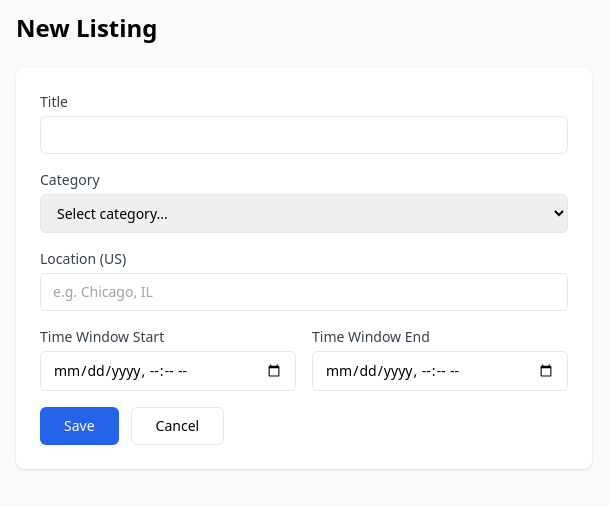
Scenario: ListingFormPage › time window end before start shows validation error
Type "Lost wallet" into the field with test id "title-input" at (304, 135), box [40,116,568,154]
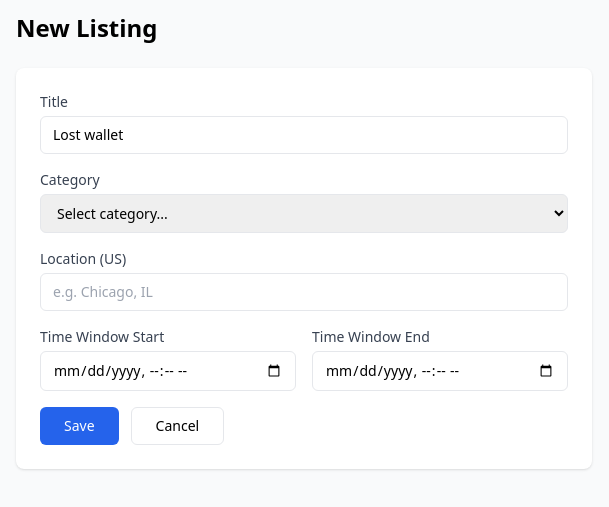
Select "Keys" in the dropdown with test id "category-select" at (304, 214), box [40,194,568,233]
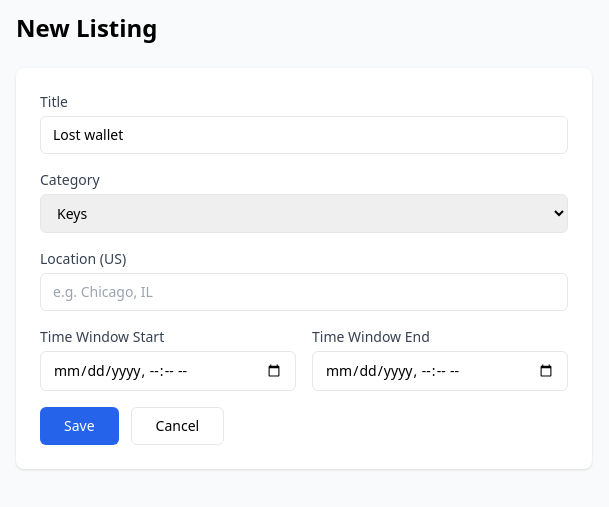
Type "Chicago, IL" into the field with test id "location-input" at (304, 292), box [40,273,568,311]
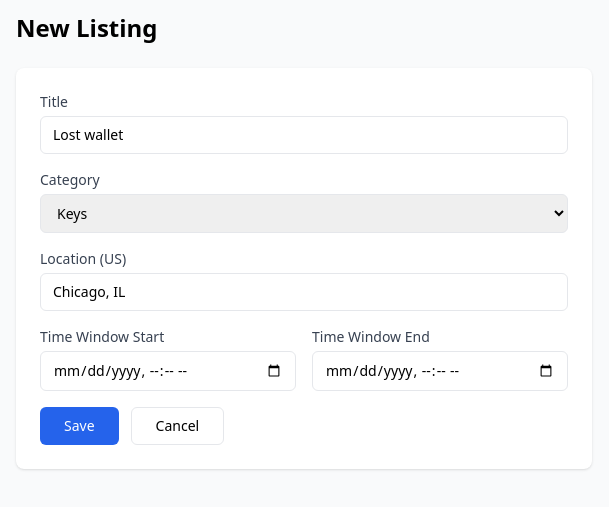
Type "2024-06-15T14:00" into the field with test id "start-time" at (168, 371), box [40,351,296,391]
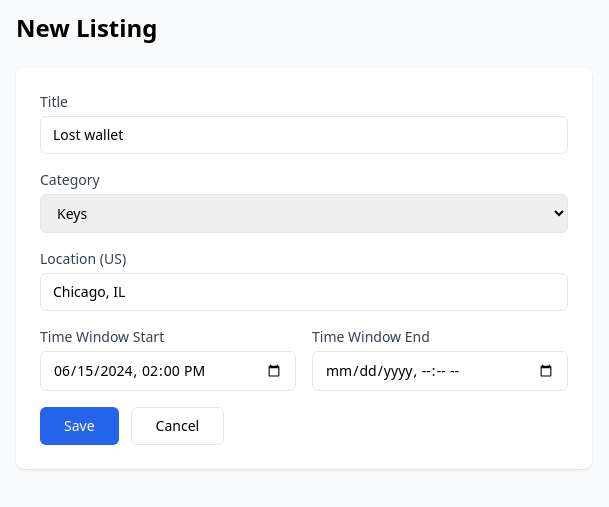
Type "2024-06-15T12:00" into the field with test id "end-time" at (440, 371), box [312,351,568,391]
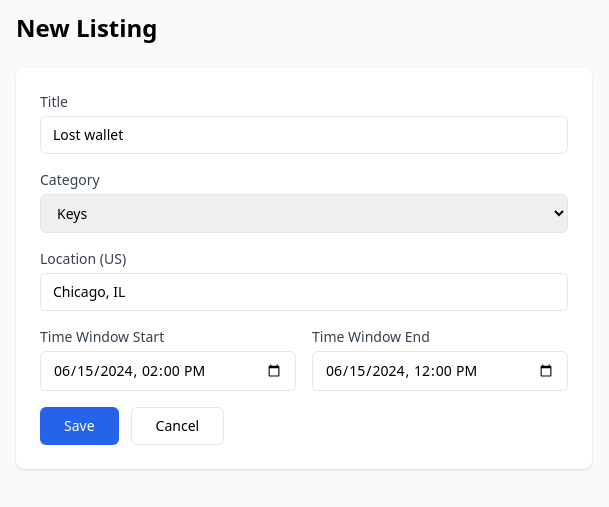
Submit the form with test id "title-input"
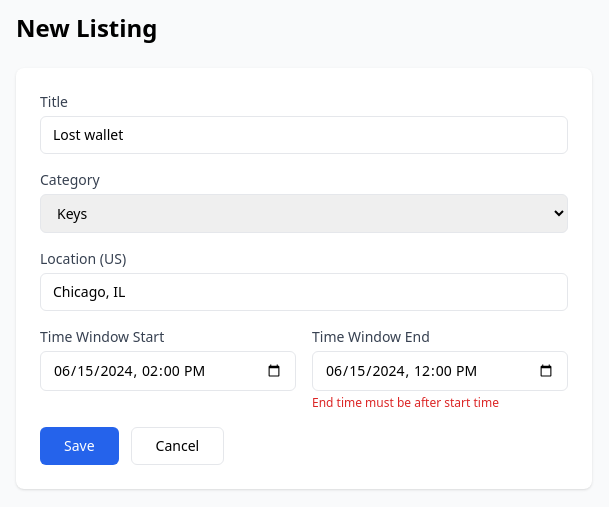
Expected: the text "End time must be after start time" is shown, [312,394,499,411]
